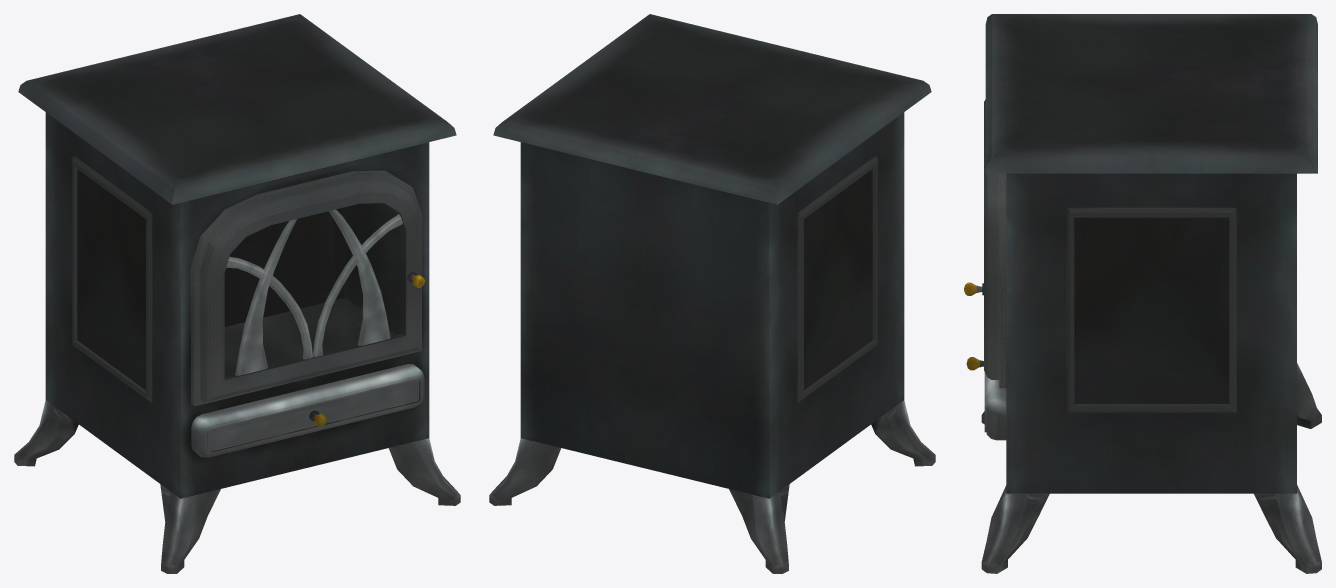
3 views of the same model, side by side, from view 1: azimuth 30°, elevation 25°; view 2: azimuth 150°, elevation 25°; view 3: azimuth 270°, elevation 25° (orthographic). The views are drawn at different scales.
Parts seen in each view (by area): view 1: Range; view 2: Range; view 3: Range.
Boxes of the visible parts, x1,y1,x2,y2 form: Range: (14,14,460,573); Range: (489,14,935,573); Range: (964,14,1321,573).
Bounding box in the file's own units: 15.75 × 19.42 × 15.28.
1 material, 1 textured.
